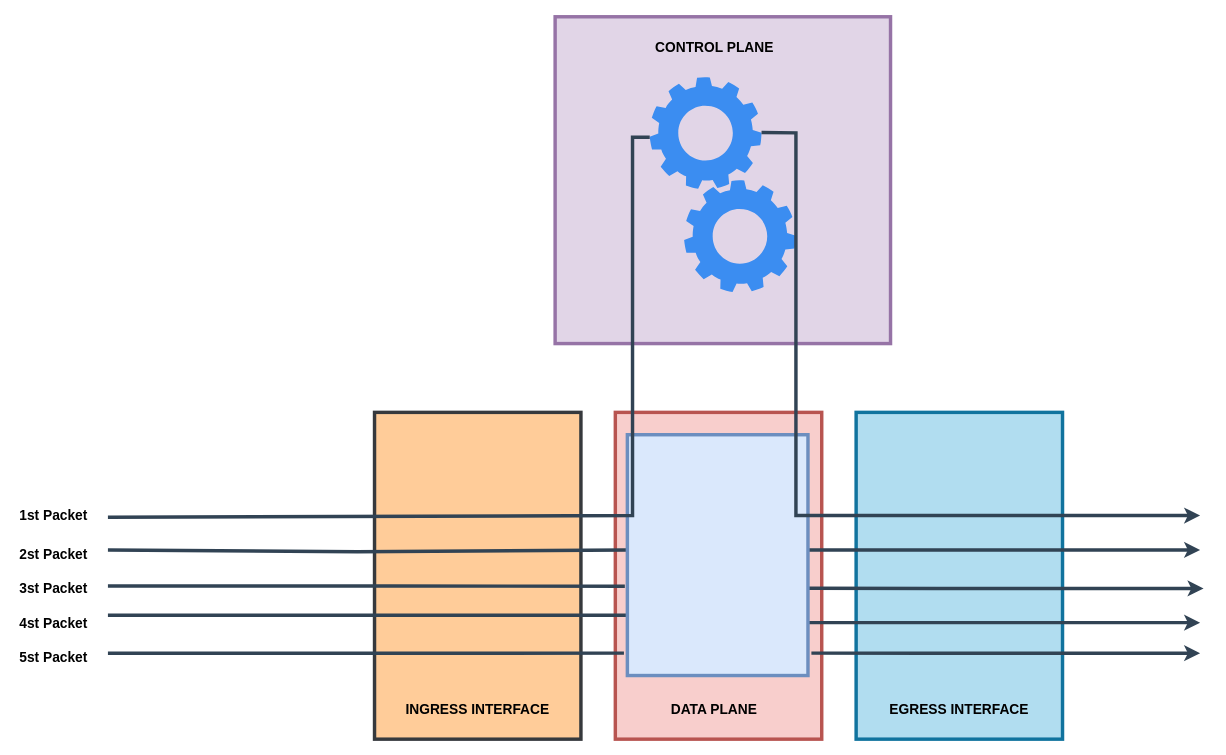
Image size: 1226x755. Some labels were removed from this diagram. The centre of each missing label's shape, as x and y in pixels:
"CPU" goes at (x=705, y=132).
"FAST FORWARD CACHE" goes at (x=717, y=555).
